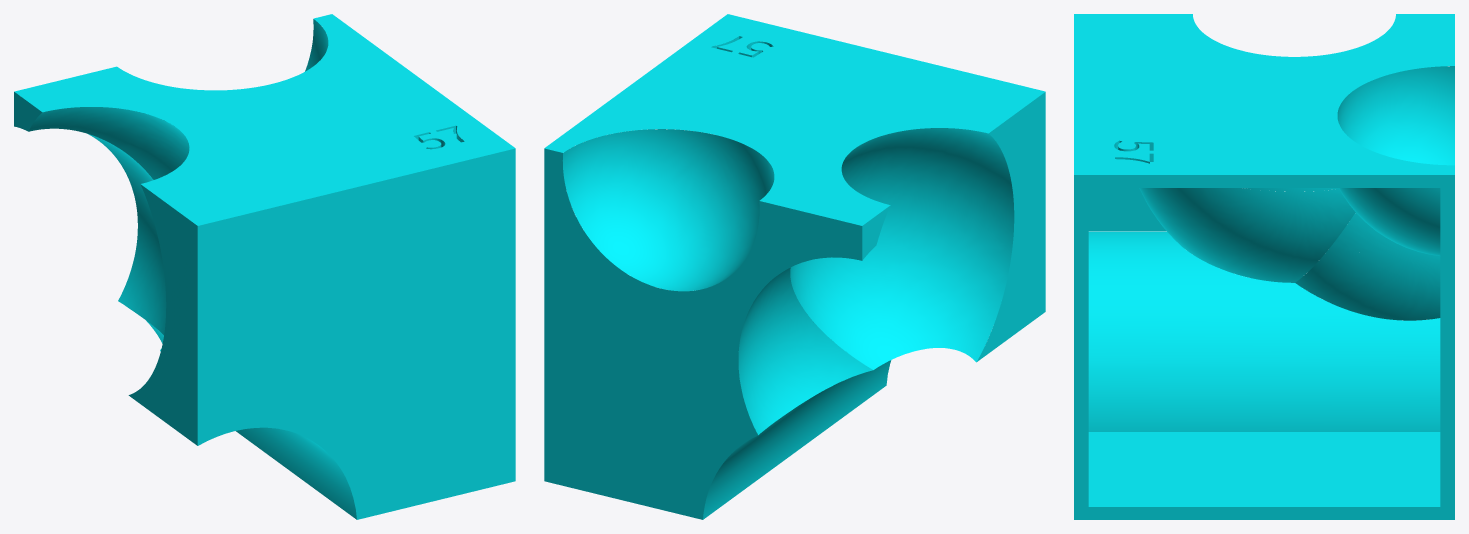
The picture shows the model from 3 angles, left to right: view 1: azimuth 30°, elevation 25°; view 2: azimuth 150°, elevation 25°; view 3: azimuth 270°, elevation 25°; orthographic projection. The views are drawn at different scales.
Parts seen in each view (by area): view 1: 70_vars_w-txt; view 2: 70_vars_w-txt; view 3: 70_vars_w-txt.
Part boxes in pixels (<box>): 70_vars_w-txt: <box>14,14,515,519</box>; 70_vars_w-txt: <box>544,14,1045,519</box>; 70_vars_w-txt: <box>1074,14,1454,519</box>.
Size of the model in its own units: 0.042 by 0.042 by 0.042.
